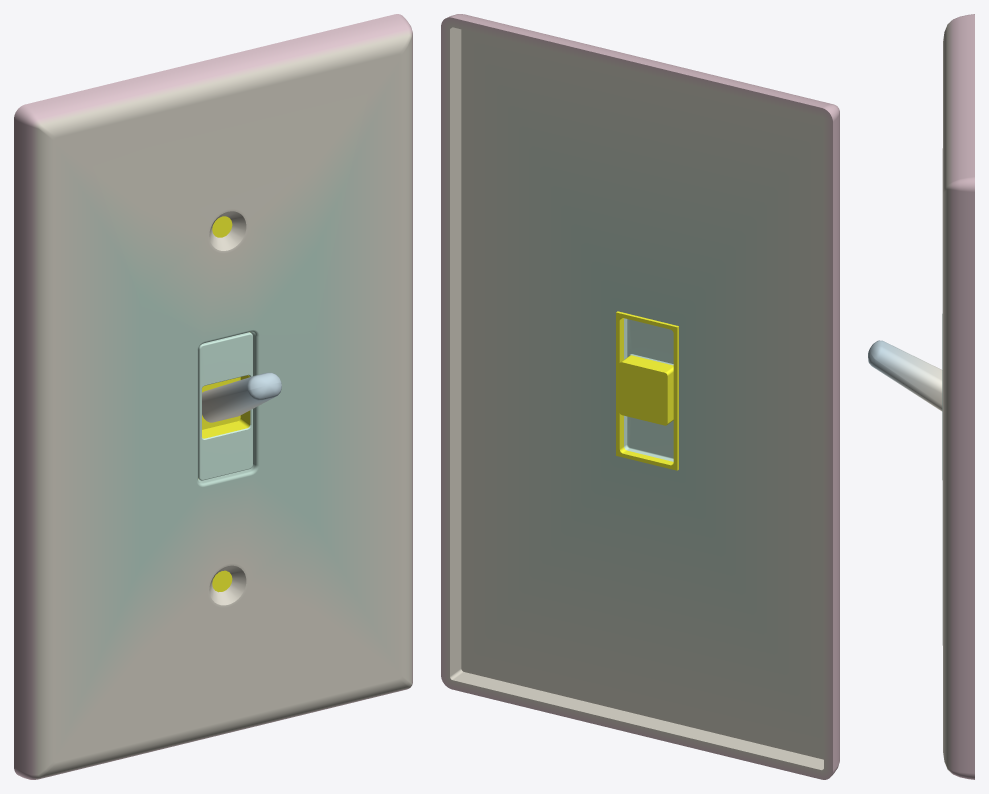
The model's file is Kit_OutletToggle1.fbx.
3 views of the same model, side by side, from view 1: azimuth 30°, elevation 25°; view 2: azimuth 150°, elevation 25°; view 3: azimuth 270°, elevation 25° (orthographic). The views are drawn at different scales.
Visible parts, largest first — view 1: Kit_OutletToggle1_LOD0; view 2: Kit_OutletToggle1_LOD0; view 3: Kit_OutletToggle1_LOD0.
Part boxes in pixels (left/top/right/bottom): Kit_OutletToggle1_LOD0: left=14, top=14, right=412, bottom=779; Kit_OutletToggle1_LOD0: left=441, top=14, right=839, bottom=779; Kit_OutletToggle1_LOD0: left=868, top=14, right=974, bottom=779.
Size of what is drawn, in the model's own units: 0.0698 by 0.1143 by 0.0184.
